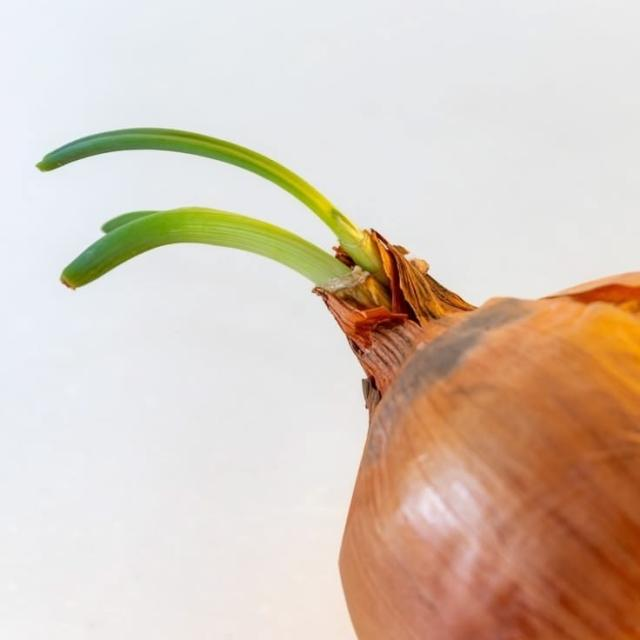sprouting: (30, 100, 640, 615)
